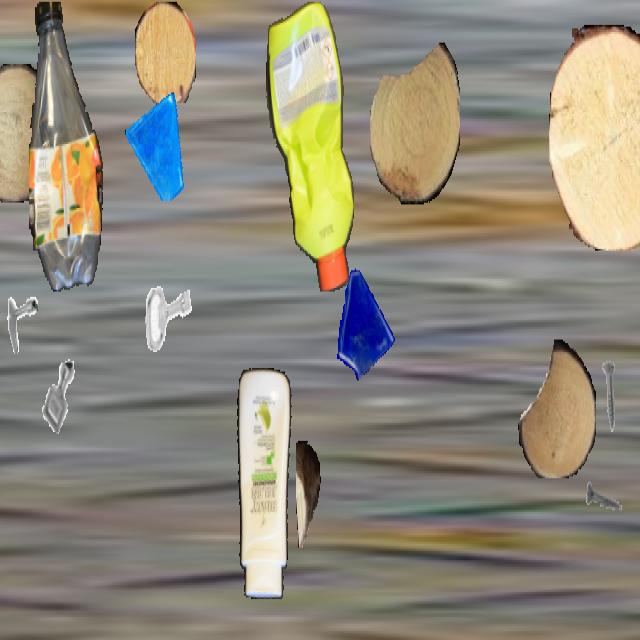glass: (331, 263, 397, 381), (125, 89, 187, 199)
metal: (137, 263, 197, 370), (31, 347, 87, 446), (589, 359, 631, 434), (585, 459, 627, 533), (0, 277, 38, 352)
plastic: (265, 2, 355, 290), (29, 2, 105, 290), (230, 368, 294, 599)
wood: (549, 25, 640, 249), (370, 41, 460, 204), (518, 340, 596, 478), (0, 64, 54, 203), (135, 2, 195, 105), (296, 441, 320, 547)
